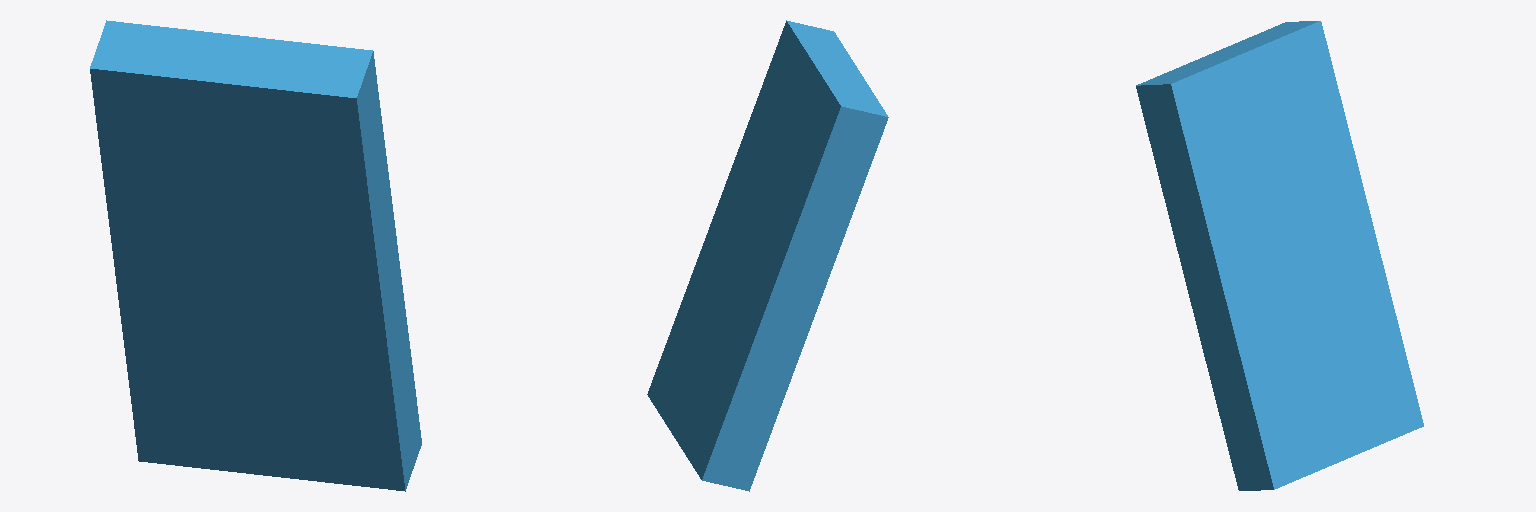
URDF robot description (camera_entrance):
<?xml version="1.0"?>
<robot xmlns:sensor="http://playerstage.sourceforge.net/gazebo/xmlschema/#sensor"
       xmlns:controller="http://playerstage.sourceforge.net/gazebo/xmlschema/#controller"
       xmlns:interface="http://playerstage.sourceforge.net/gazebo/xmlschema/#interface"
       xmlns:xacro="http://ros.org/wiki/xacro"
       name="camera_entrance">

<gazebo reference="camera_entrance"> 
      <sensor:camera name="camera_entrance">
        <imageSize>640 480</imageSize>
        <imageFormat>R8G8B8</imageFormat>
        <hfov>90</hfov>
        <nearClip>0.01</nearClip>
        <farClip>100</farClip>
        <updateRate>20.0</updateRate>
        <controller:gazebo_ros_camera name="camera_entrance_controller" plugin="libgazebo_ros_camera.so">
          <alwaysOn>true</alwaysOn>
          <updateRate>20.0</updateRate>
          <imageTopicName>angen_cameras/entrance/image</imageTopicName>
          <frameName>camera_entrance</frameName>
          <interface:camera name="camera_entrance_iface" />
        </controller:gazebo_ros_camera>
      </sensor:camera>
      <turnGravityOff>true</turnGravityOff>
      <material>Gazebo/Blue</material>   
  </gazebo>

<link name="world"/>
  <joint name="camera_entrance_pose" type="fixed">
    <axis xyz="1 0 0"/>
    <parent link="world"/>
    <origin rpy="0 0.35 -2.355" xyz="6.1 8.2 2.3"/>
    <child link="camera_entrance"/>
    <dynamics damping="100" friction="1000"/>
  </joint>
  
<link name="camera_entrance">
     <inertial>
      <origin xyz="0 0 0" rpy="0 0 0" /> 
      <mass value="0.3" />
      <inertia  ixx="0.3" ixy="0.0"  ixz="0.0"  iyy="0.001"  iyz="0.0"  izz="0.05" />
    </inertial>
    <visual>
      <origin xyz="0 0 0" rpy="0 0 0" /> 
      <geometry>
        <box size=".025 .1 .2" />
      </geometry>
    </visual>
    <collision name="camera_entrance">
     <origin xyz="0 0 0" rpy="0 0 0" /> 
      <geometry>
       <box size=".025 .1 .2" />
      </geometry>
    </collision>
  </link>
</robot>

--- Facts derived from the render (not from the file) ---
Views: 3 orthographic renders of the robot side by side, from view 1: azimuth 30°, elevation 25°; view 2: azimuth 150°, elevation 25°; view 3: azimuth 270°, elevation 25°.
Model camera_entrance with 2 links and 1 joints (1 fixed), rooted at world, posed every joint at zero.
Visible links, largest first — view 1: camera_entrance; view 2: camera_entrance; view 3: camera_entrance.
Boxes of the visible links, box(x1,y1,x2,y2) form: camera_entrance: box(90, 20, 421, 491); camera_entrance: box(647, 20, 888, 491); camera_entrance: box(1136, 21, 1423, 490).
Bounding box of the posed robot: 0.1358 × 0.1358 × 0.1964 m (x, y, z).
Geometry: primitives only (box / cylinder / sphere), no mesh files.